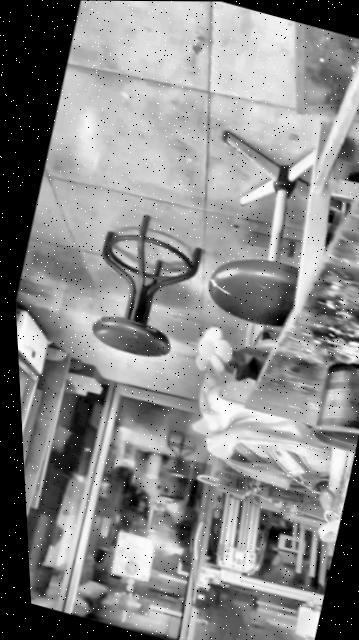pot: (310, 363, 359, 450)
